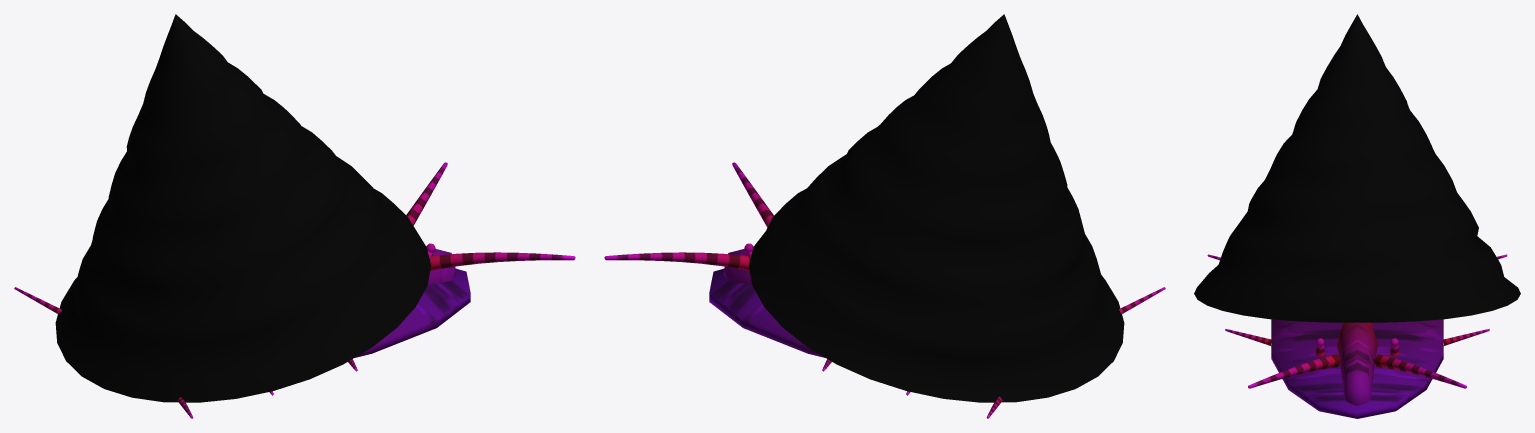
The model's file is trochus.glb.
3 views of the same model, side by side, from view 1: azimuth 30°, elevation 25°; view 2: azimuth 150°, elevation 25°; view 3: azimuth 270°, elevation 25° (orthographic). The views are drawn at different scales.
Parts seen in each view (by area): view 1: Shell, Foot, Tentacles; view 2: Shell, Foot, Tentacles; view 3: Shell, Foot, Tentacles, Eyes.
Boxes of the visible parts, x1=… form: Shell: x1=55, y1=14, x2=431, y2=402; Foot: x1=355, y1=249, x2=470, y2=357; Tentacles: x1=14, y1=162, x2=575, y2=418; Shell: x1=748, y1=14, x2=1124, y2=402; Foot: x1=709, y1=249, x2=824, y2=357; Tentacles: x1=604, y1=162, x2=1165, y2=418; Shell: x1=1194, y1=14, x2=1520, y2=322; Foot: x1=1271, y1=319, x2=1443, y2=418; Tentacles: x1=1207, y1=254, x2=1507, y2=388; Eyes: x1=1315, y1=338, x2=1399, y2=356.
Bounding box in the file's own units: 1.35 × 1.06 × 1.06.
Materials: 1 (1 with a texture image).
